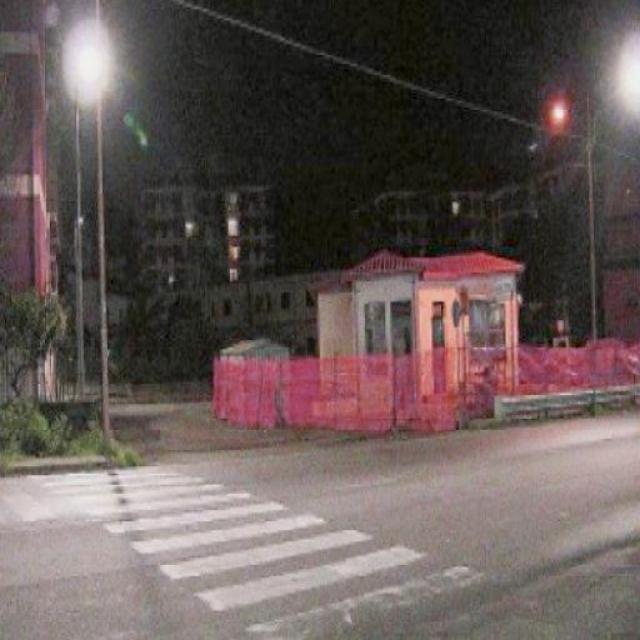sidewalk: (42, 456, 550, 634)
